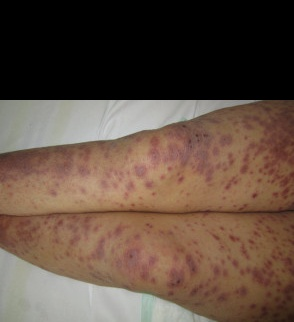SJS-TEN: (0, 97, 294, 322)
